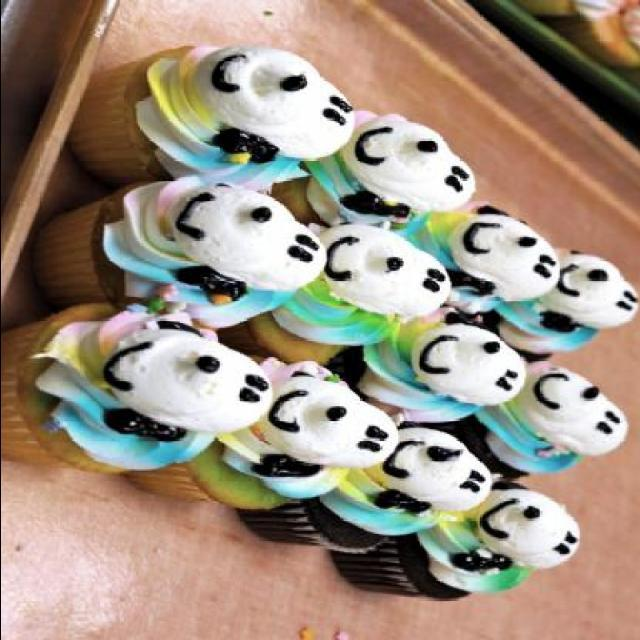Muffin: (30, 172, 332, 334), (0, 301, 277, 477), (122, 358, 396, 510), (67, 42, 353, 186), (224, 217, 456, 360), (236, 428, 498, 554), (328, 476, 580, 596), (264, 110, 474, 228), (338, 306, 530, 428), (456, 358, 626, 482), (486, 247, 638, 359), (412, 210, 564, 314), (543, 4, 640, 67), (510, 0, 630, 22)
